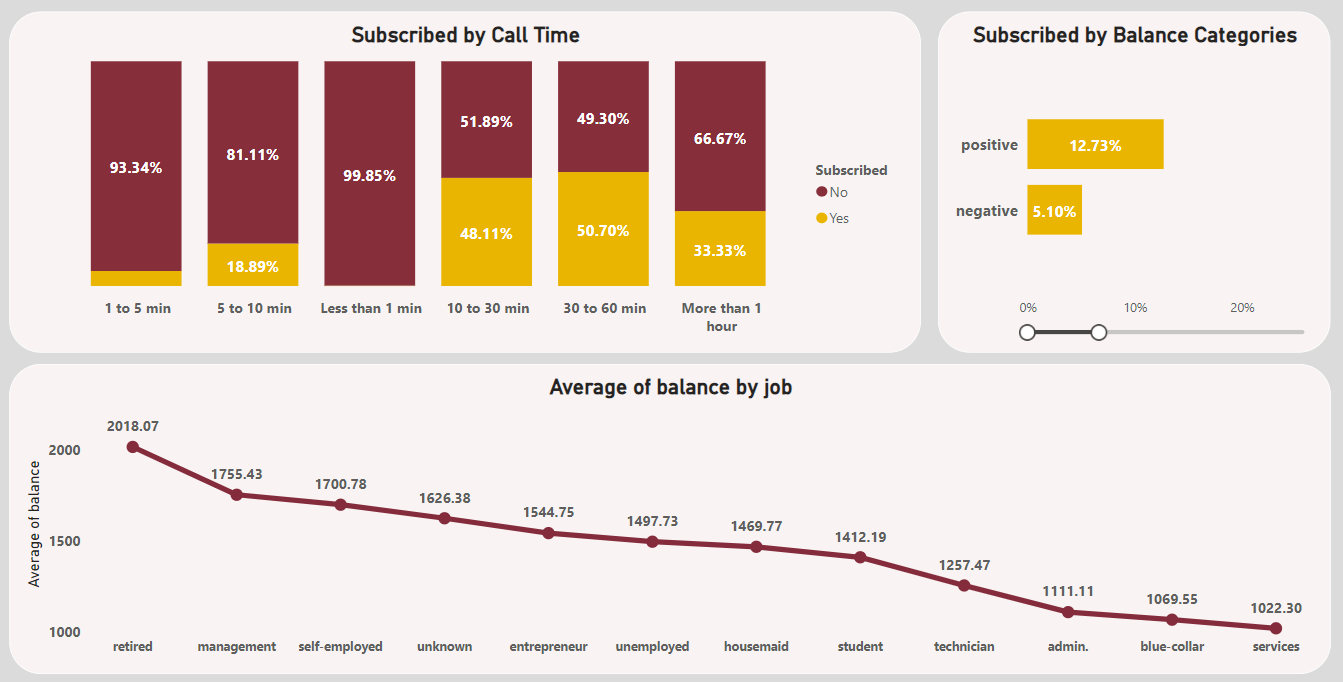

This screenshot's page, from the dashboard's own definition file:
{"tool":"powerbi","page":{"name":"Business Requirements","canvas":[1280,720],"ordinal":1},"visuals":[{"type":"lineChart","fields":{"Category":["Term Deposit.job"],"Y":["Avg(Term Deposit.balance)"]},"box":[10.8,413.8,1258.5,295.4],"z":0},{"type":"actionButton","box":[0,0,100,40],"z":1000},{"type":"textbox","box":[0,0,1280,67.2],"z":2000},{"type":"hundredPercentStackedColumnChart","title":"Subscribed by Call Time","fields":{"Category":["Term Deposit.call time"],"Y":["CountNonNull(Term Deposit.subscribed)"],"Series":["Term Deposit.subscribed"]},"box":[10.8,78.5,867.7,324.6],"z":3000},{"type":"hundredPercentStackedBarChart","title":"Subscribed by Balance Categories","fields":{"Category":["Term Deposit.balance categories"],"Y":["CountNonNull(Term Deposit.subscribed)"],"Series":["Term Deposit.subscribed"]},"box":[895.4,78.5,373.8,324.6],"z":4000}]}

Visuals, with their boxes on the page's 1280x720 design canvas (x1, y1, x2, y2). These are canvas units, not pixel positions in the 1343x682 screenshot, which may show the page scaled, cropped or inside an application window:
lineChart - Term Deposit.job x Avg(Term Deposit.balance): (11,414,1269,709)
actionButton: (0,0,100,40)
textbox: (0,0,1280,67)
"Subscribed by Call Time" hundredPercentStackedColumnChart: (11,78,878,403)
"Subscribed by Balance Categories" hundredPercentStackedBarChart: (895,78,1269,403)
